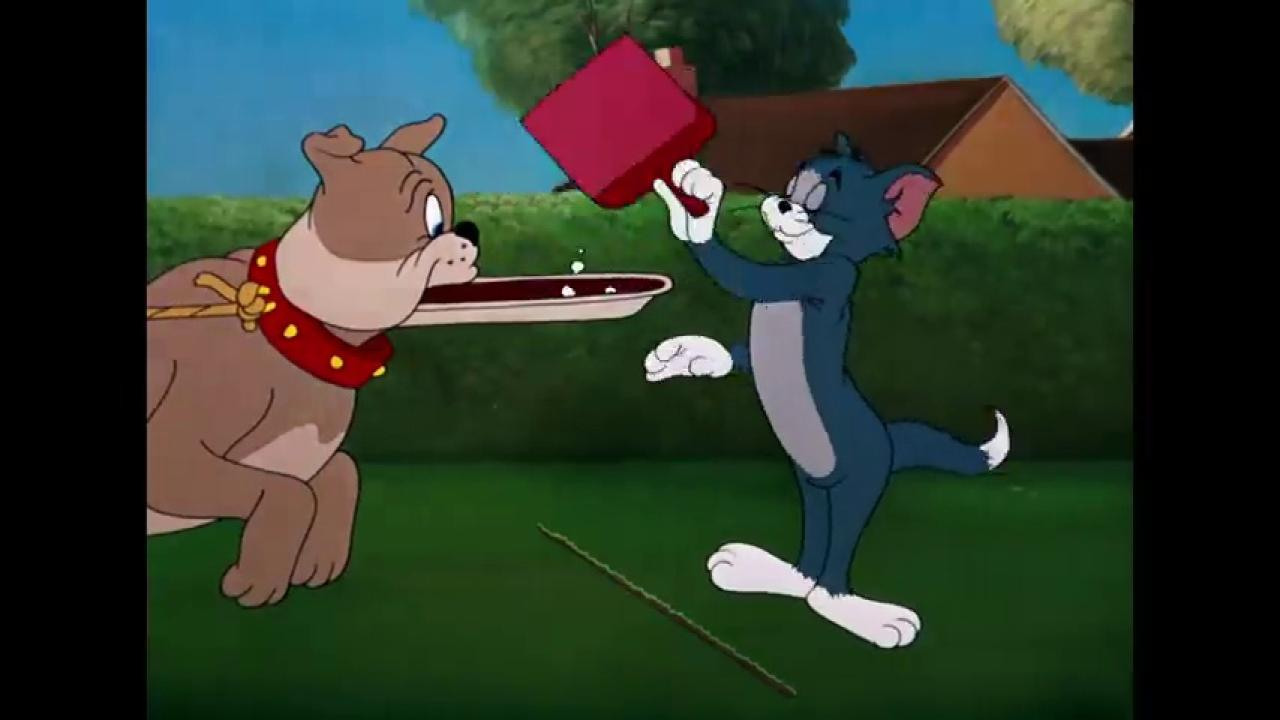Tom: (641, 126, 1012, 654)
